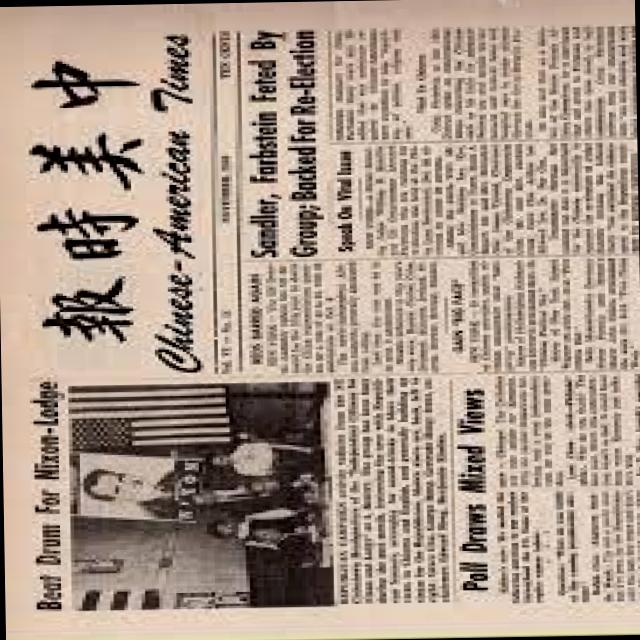paper: (9, 15, 640, 618)
